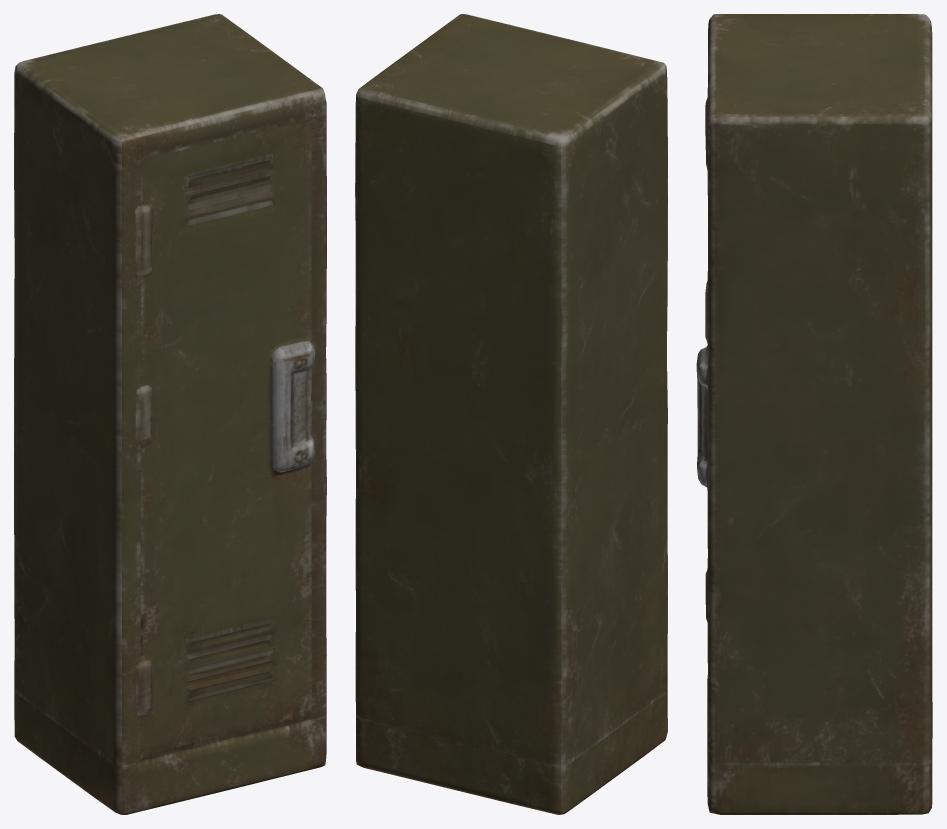
The model's file is bunker_locker.glb.
3 views of the same model, side by side, from view 1: azimuth 30°, elevation 25°; view 2: azimuth 150°, elevation 25°; view 3: azimuth 270°, elevation 25° (orthographic). The views are drawn at different scales.
Visible parts, largest first — view 1: BunkerLocker; view 2: BunkerLocker; view 3: BunkerLocker.
Boxes of the visible parts, left/top/right/bottom form: BunkerLocker: left=14, top=14, right=326, bottom=814; BunkerLocker: left=355, top=14, right=667, bottom=814; BunkerLocker: left=696, top=14, right=932, bottom=814.
Size of the model in its own units: 0.62 by 1.9 by 0.58.
1 material, 1 textured.
